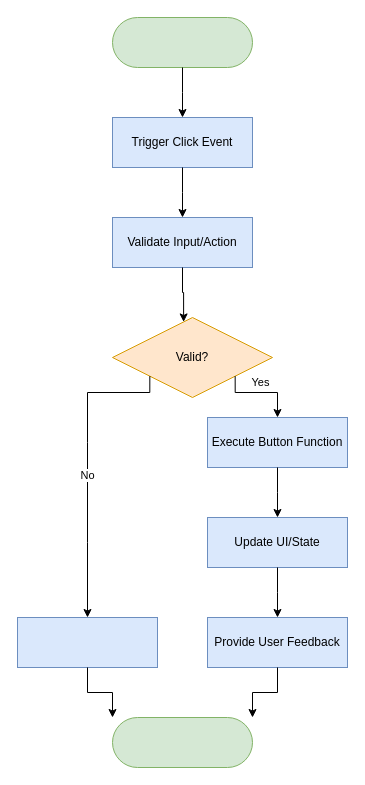
Some shapes in this 365 by 785 pixel diagram are drawn without their labels. Each missing label, with the centre of its shape:
"End" belongs at (x=182, y=742).
"Show Error Message" belongs at (x=87, y=642).
"User Clicks Button" belongs at (x=182, y=42).
